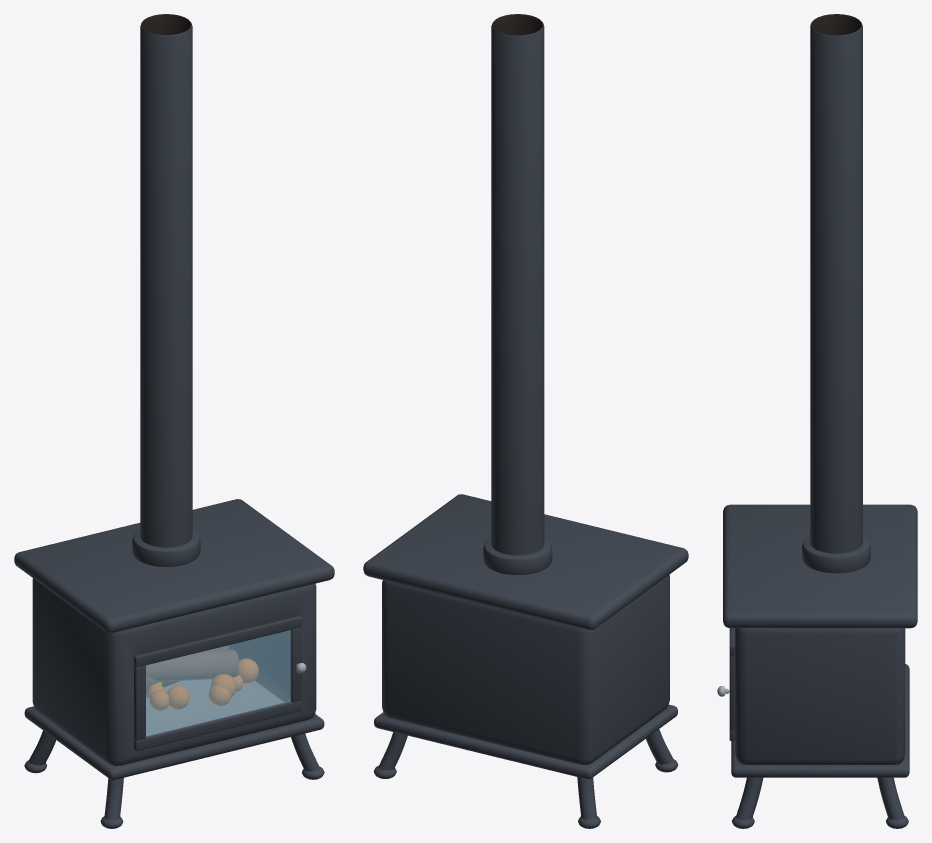
The model's file is lareira_fogareiro_caixa.glb.
3 renders of one model, left to right at view 1: azimuth 30°, elevation 25°; view 2: azimuth 150°, elevation 25°; view 3: azimuth 270°, elevation 25°, orthographic.
Visible parts, largest first — view 1: lareira_fogareiro_caixa, porta_1; view 2: lareira_fogareiro_caixa; view 3: lareira_fogareiro_caixa, porta_1.
Part boxes in pixels (x1,y1,x2,y2): lareira_fogareiro_caixa: [14, 14, 334, 828]; porta_1: [134, 615, 306, 750]; lareira_fogareiro_caixa: [363, 14, 688, 828]; lareira_fogareiro_caixa: [723, 14, 917, 828]; porta_1: [717, 628, 735, 740].
Bounding box in the file's own units: 0.66 × 2.05 × 0.4941.
3 materials, 1 textured.
